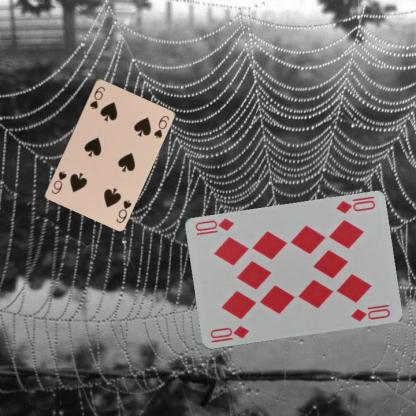10d: (208, 324, 250, 344), (334, 198, 376, 216)
6s: (114, 197, 132, 224), (88, 84, 106, 110)
